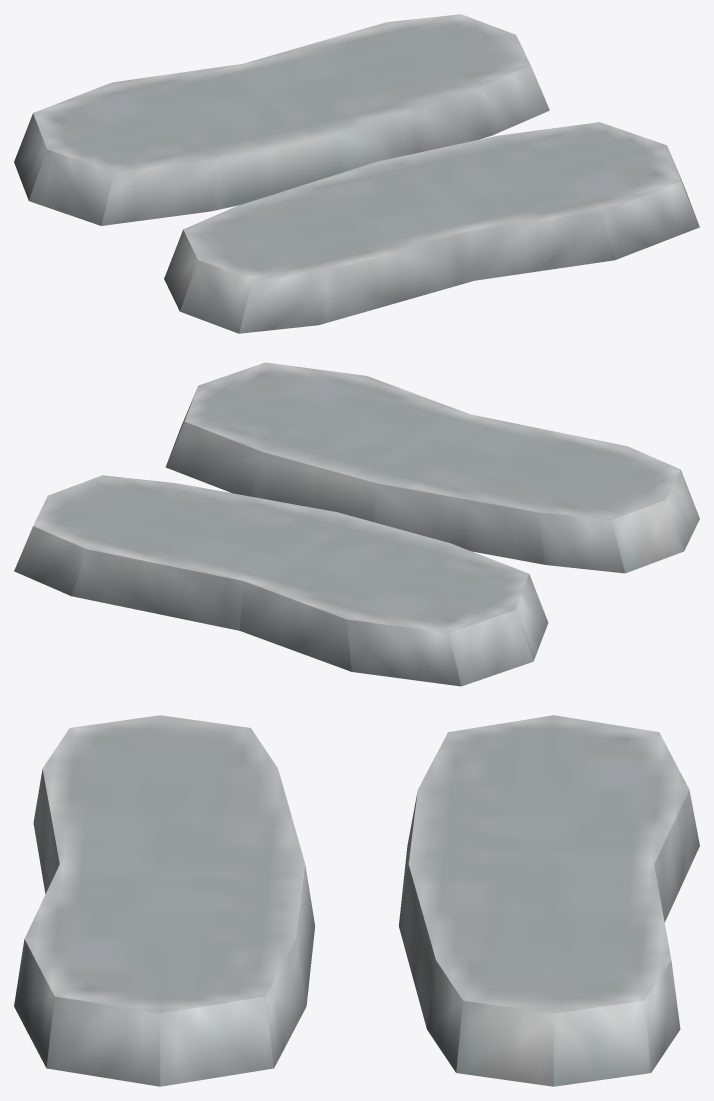
The model's file is objects_un_t05tile05.gltf.
The picture shows the model from 3 angles, top to bottom: view 1: azimuth 30°, elevation 25°; view 2: azimuth 150°, elevation 25°; view 3: azimuth 270°, elevation 25°; orthographic projection. The views are drawn at different scales.
Visible parts, largest first — view 1: mat_01_shape:objects_un_t05house01_blue_01; view 2: mat_01_shape:objects_un_t05house01_blue_01; view 3: mat_01_shape:objects_un_t05house01_blue_01.
Part boxes in pixels (x1,y1,x2,y2): mat_01_shape:objects_un_t05house01_blue_01: [14, 14, 699, 333]; mat_01_shape:objects_un_t05house01_blue_01: [14, 362, 699, 686]; mat_01_shape:objects_un_t05house01_blue_01: [14, 715, 699, 1086].
Size of what is drawn, in the model's own units: 1.27 by 0.1141 by 1.15.
1 material, 1 textured.
